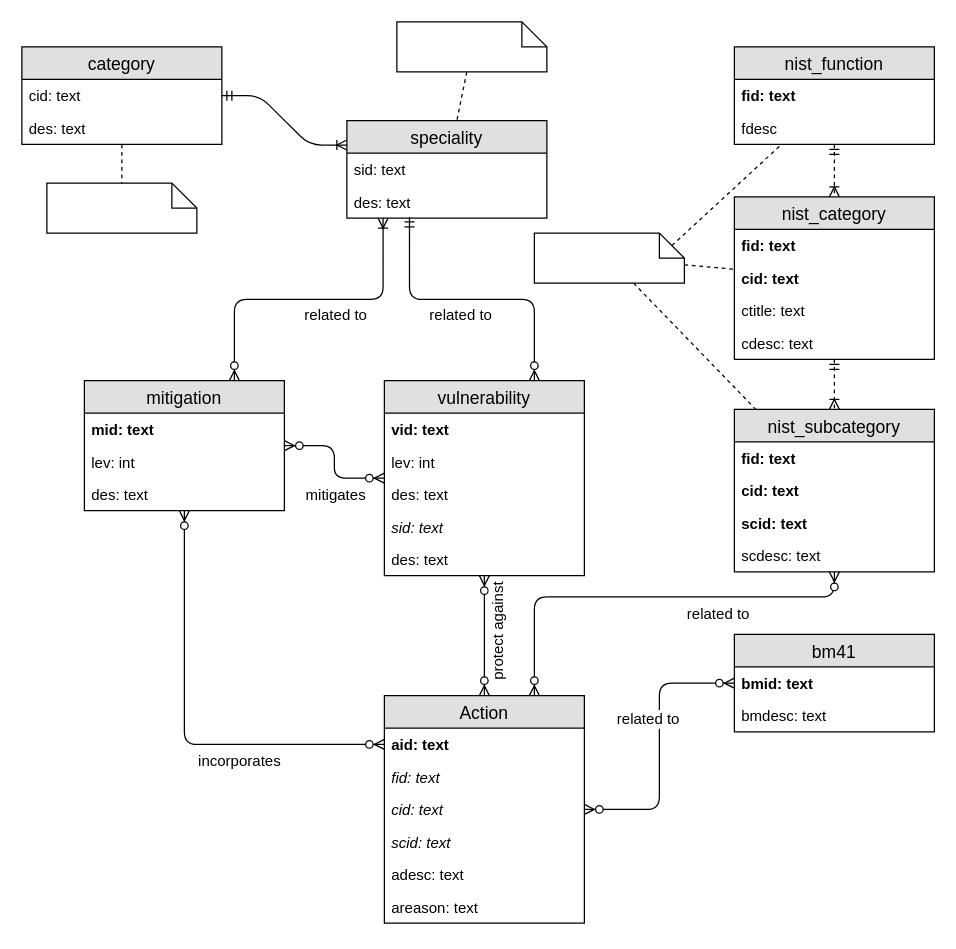
Some shapes in this 956 by 949 pixel diagram are drawn without their labels. Here are the shapes that lost their labels. From the top down, the centre of each, then its label:
the point at 471,46: FLOSS sajátosság
the point at 121,207: Sajátosság kategória
the point at 608,257: NIST besorolás
